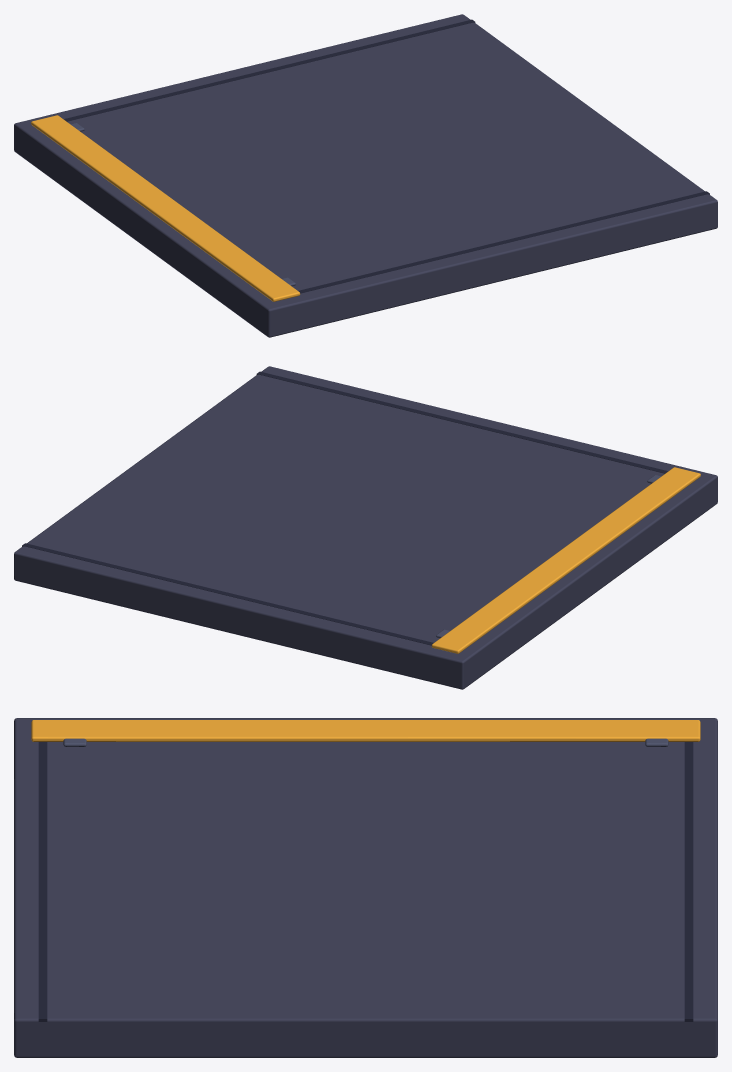
The model's file is floor.plate.WSN+hzx.glb.
3 renders of one model, top to bottom at view 1: azimuth 30°, elevation 25°; view 2: azimuth 150°, elevation 25°; view 3: azimuth 270°, elevation 25°, orthographic. The views are drawn at different scales.
Visible parts, largest first — view 1: floor.plate.WSN+hzx; view 2: floor.plate.WSN+hzx; view 3: floor.plate.WSN+hzx.
Part boxes in pixels (x1=…): floor.plate.WSN+hzx: x1=14, y1=14, x2=717, y2=337; floor.plate.WSN+hzx: x1=14, y1=366, x2=717, y2=689; floor.plate.WSN+hzx: x1=14, y1=718, x2=717, y2=1057.
Bounding box in the file's own units: 0.984 × 0.068 × 0.968.
